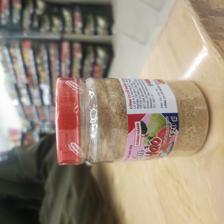Hao_hao: (53, 74, 213, 167)
